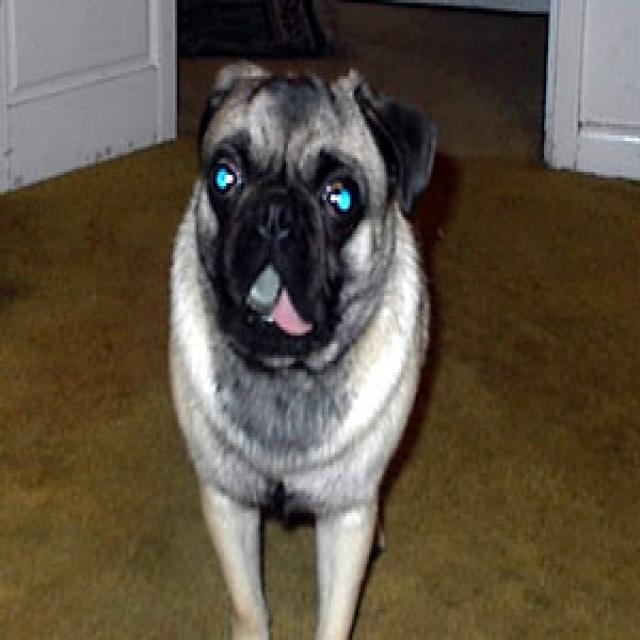dog-pug: (160, 54, 442, 634)
